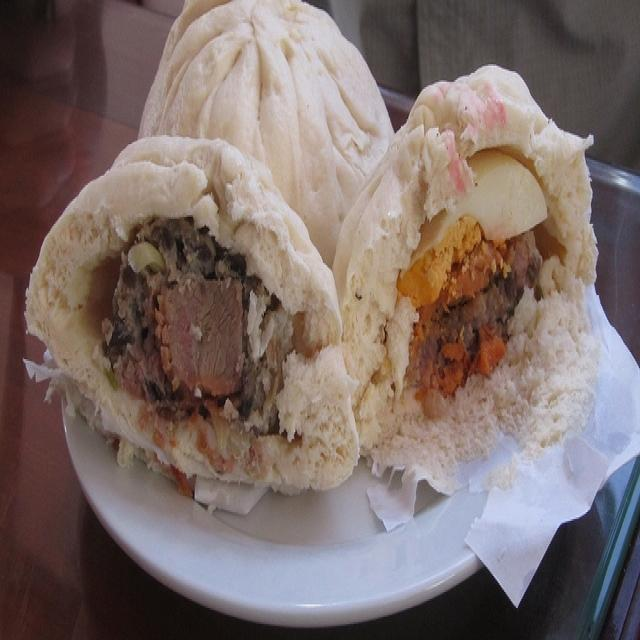带馅早点: (42, 7, 600, 592)
